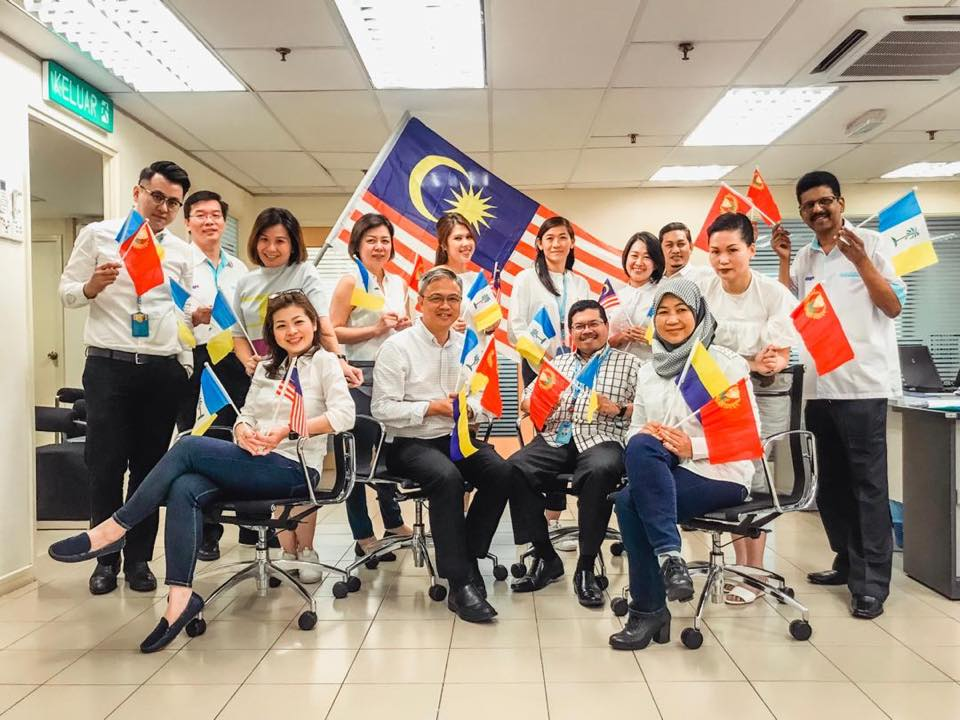person: (759, 182, 901, 361), (83, 148, 194, 353), (374, 270, 486, 467), (624, 284, 736, 475), (527, 296, 652, 459), (220, 283, 340, 452), (693, 208, 784, 365)
